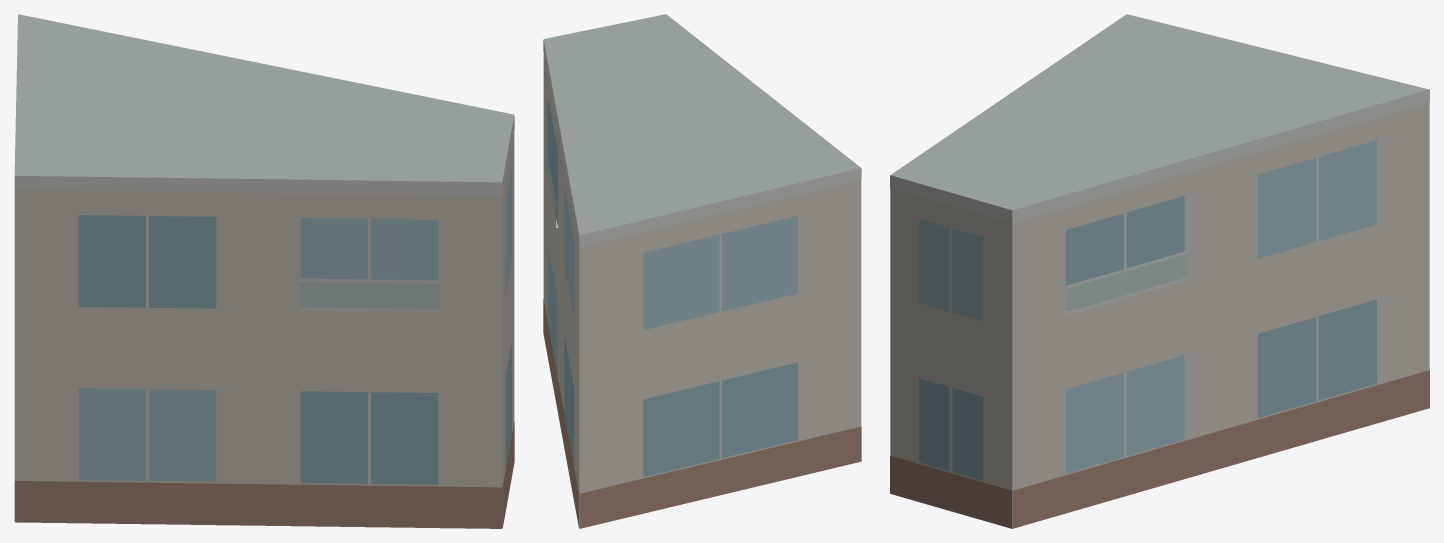
The model's file is survey-upis-32725250.glb.
The picture shows the model from 3 angles, left to right: view 1: azimuth 30°, elevation 25°; view 2: azimuth 150°, elevation 25°; view 3: azimuth 270°, elevation 25°; orthographic projection. The views are drawn at different scales.
Parts seen in each view (by area): view 1: survey-upis-32725250.tmp; view 2: survey-upis-32725250.tmp; view 3: survey-upis-32725250.tmp.
Part boxes in pixels (left/top/right/bottom): survey-upis-32725250.tmp: left=14, top=14, right=514, bottom=528; survey-upis-32725250.tmp: left=543, top=14, right=861, bottom=528; survey-upis-32725250.tmp: left=890, top=14, right=1429, bottom=528.
Size of the model in its own units: 8.07 by 6.1 by 9.37.
